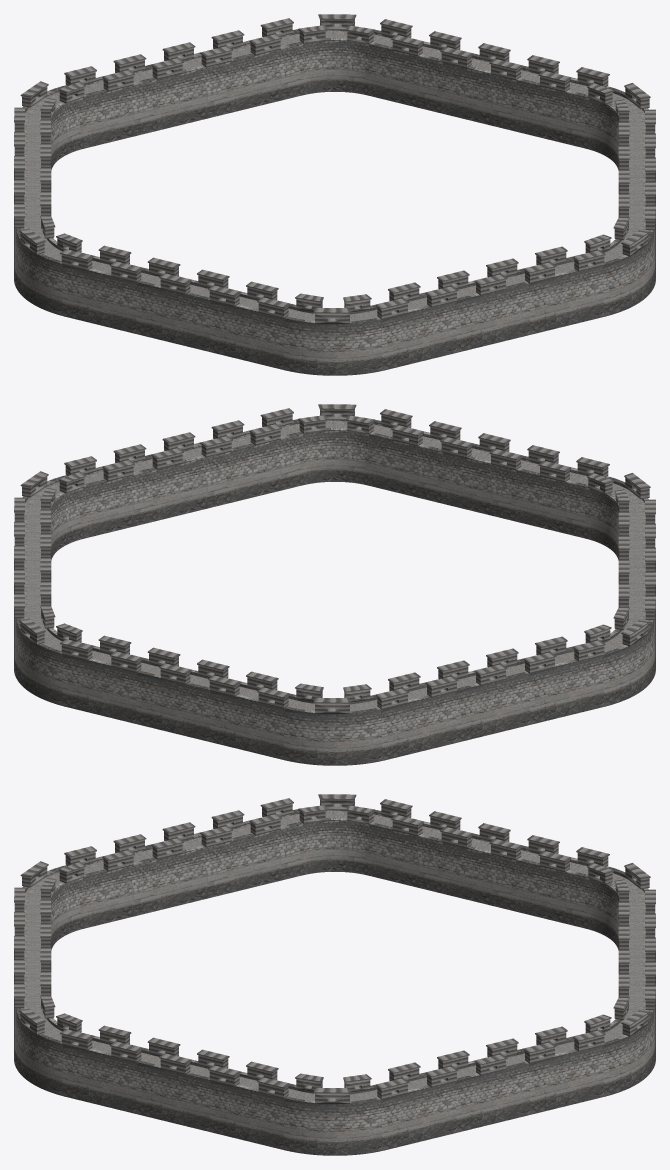
Rendered from part_02_left_middle_wall_large_hex_bent_subdiv_centered_tight_corner_large_battlements_uv_fixed.obj.
3 renders of one model, top to bottom at view 1: azimuth 30°, elevation 25°; view 2: azimuth 150°, elevation 25°; view 3: azimuth 270°, elevation 25°, orthographic.
Visible parts, largest first — view 1: part_02_left_middle_wall_large_hex_bent_subdiv_centered_tight_co; view 2: part_02_left_middle_wall_large_hex_bent_subdiv_centered_tight_co; view 3: part_02_left_middle_wall_large_hex_bent_subdiv_centered_tight_co.
Part boxes in pixels (x1=…): part_02_left_middle_wall_large_hex_bent_subdiv_centered_tight_co: x1=14, y1=14, x2=655, y2=375; part_02_left_middle_wall_large_hex_bent_subdiv_centered_tight_co: x1=14, y1=404, x2=655, y2=765; part_02_left_middle_wall_large_hex_bent_subdiv_centered_tight_co: x1=14, y1=794, x2=655, y2=1155.
Size of the model in its own units: 167 by 16.27 by 151.
